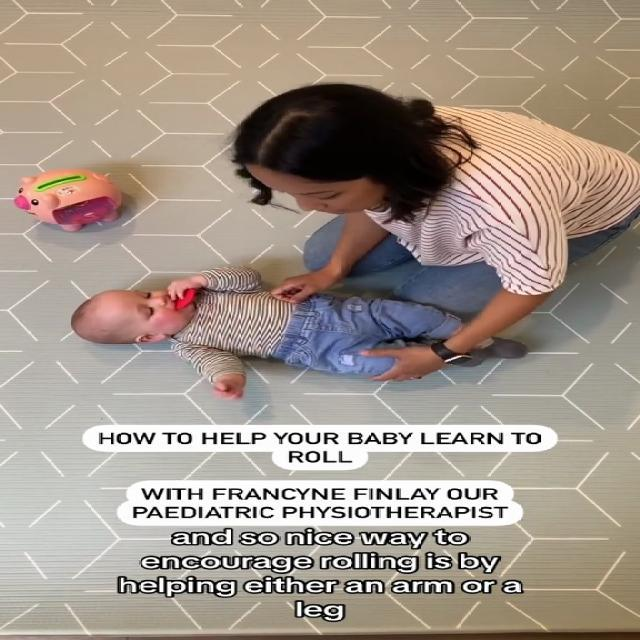baby: (64, 264, 534, 406)
